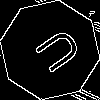U: (25, 25, 84, 81)
